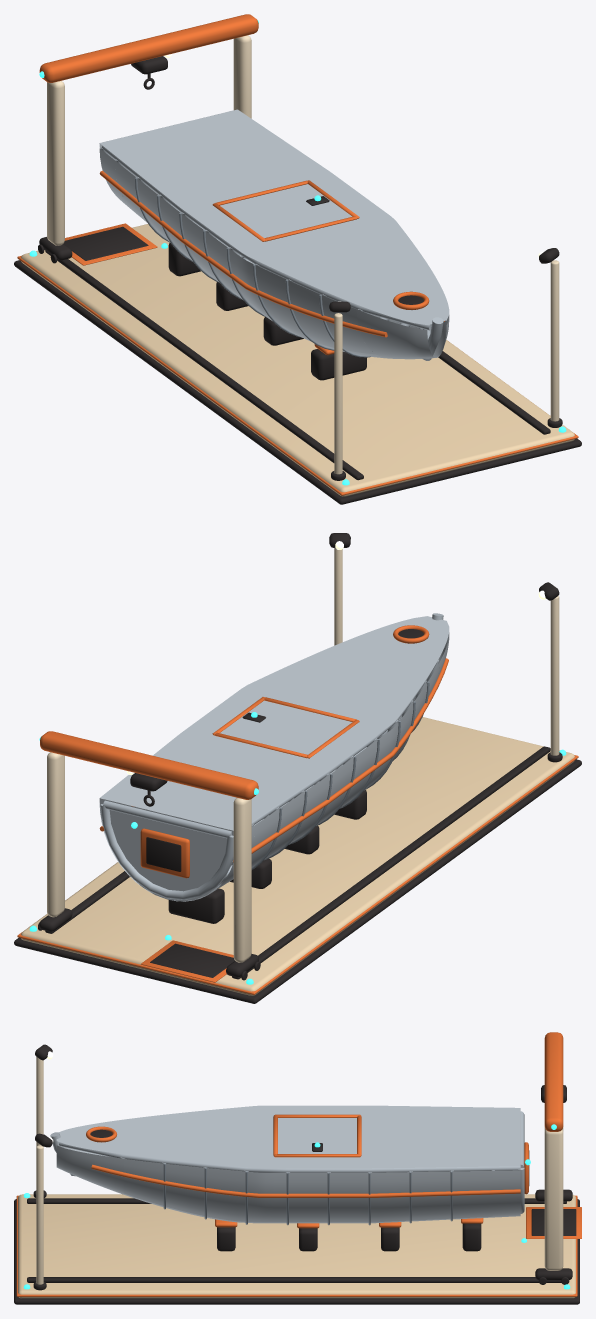
The model's file is reactor-4.glb.
The picture shows the model from 3 angles, top to bottom: view 1: azimuth 30°, elevation 25°; view 2: azimuth 150°, elevation 25°; view 3: azimuth 270°, elevation 25°; orthographic projection. The views are drawn at different scales.
Visible parts, largest first — view 1: Cube.001, skin, Cube, Cube.002, Cube.024, pipe, pipe.030; view 2: Cube.001, skin, Cube, Cube.002, Cube.024, pipe, pipe.030; view 3: skin, Cube.001, Cube, Cube.002, Cube.024, pipe, pipe.030.
Boxes of the visible parts, box(x1,y1,x2,y2) form: Cube.001: box(21, 224, 574, 496); skin: box(99, 109, 449, 359); Cube: box(14, 56, 581, 504); Cube.002: box(17, 14, 578, 495); Cube.024: box(47, 35, 559, 474); pipe: box(101, 145, 443, 360); pipe.030: box(135, 177, 410, 357); Cube.001: box(21, 717, 574, 995); skin: box(99, 616, 449, 901); Cube: box(14, 533, 581, 1003); Cube.002: box(17, 625, 578, 994); Cube.024: box(47, 548, 559, 962); pipe: box(100, 613, 443, 899); pipe.030: box(177, 681, 429, 869); skin: box(56, 1105, 520, 1223); Cube.001: box(18, 1194, 575, 1298); Cube: box(14, 1044, 579, 1304); Cube.002: box(16, 1032, 581, 1296); Cube.024: box(36, 1057, 563, 1284); pipe: box(50, 1111, 524, 1213); pipe.030: box(163, 1163, 452, 1225).
Size of the model in its own units: 1.3 by 1.06 by 3.05.
